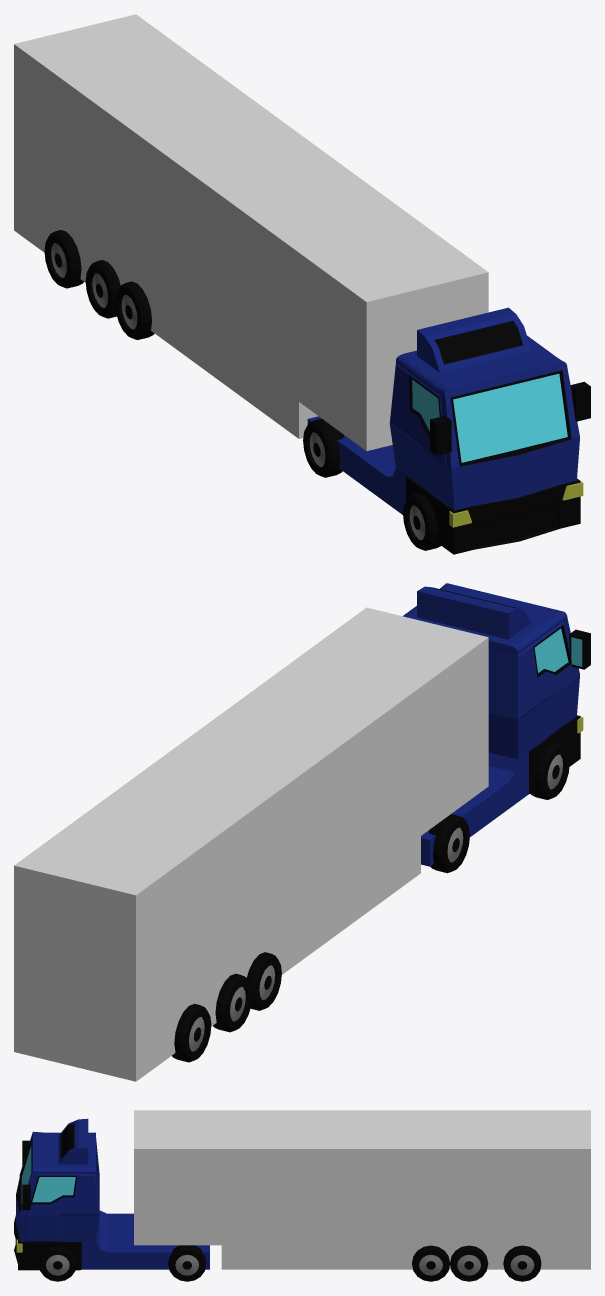
File: lkw_proto.fbx
3 views of the same model, one above another, from view 1: azimuth 30°, elevation 25°; view 2: azimuth 150°, elevation 25°; view 3: azimuth 270°, elevation 25° (orthographic). The views are drawn at different scales.
Visible parts, largest first — view 1: Anhänger, LKW, Reifen.003, Reifen.007, Reifen.009, Reifen.001, Reifen.008; view 2: Anhänger, LKW, Reifen.003, Reifen.007, Reifen.008, Reifen.001, Reifen.009; view 3: Anhänger, LKW, Reifen.002, Reifen.005, Reifen.004, Reifen.006, Reifen.
Boxes of the visible parts, x1,y1,x2,y2 form: Anhänger: [14, 14, 488, 451]; LKW: [307, 307, 590, 554]; Reifen.003: [303, 418, 344, 477]; Reifen.007: [44, 230, 83, 288]; Reifen.009: [115, 281, 154, 339]; Reifen.001: [403, 493, 440, 550]; Reifen.008: [85, 260, 120, 318]; Anhänger: [14, 607, 488, 1081]; LKW: [403, 583, 590, 866]; Reifen.003: [429, 814, 469, 873]; Reifen.007: [172, 1003, 211, 1062]; Reifen.008: [213, 973, 252, 1032]; Reifen.001: [531, 742, 569, 799]; Reifen.009: [247, 952, 281, 1010]; Anhänger: [134, 1110, 590, 1269]; LKW: [14, 1118, 209, 1270]; Reifen.002: [168, 1245, 206, 1281]; Reifen.005: [450, 1245, 488, 1281]; Reifen.004: [503, 1245, 541, 1281]; Reifen.006: [412, 1245, 449, 1281]; Reifen: [38, 1246, 76, 1281].
Bounding box in the file's own units: 303 × 380 × 1515.
